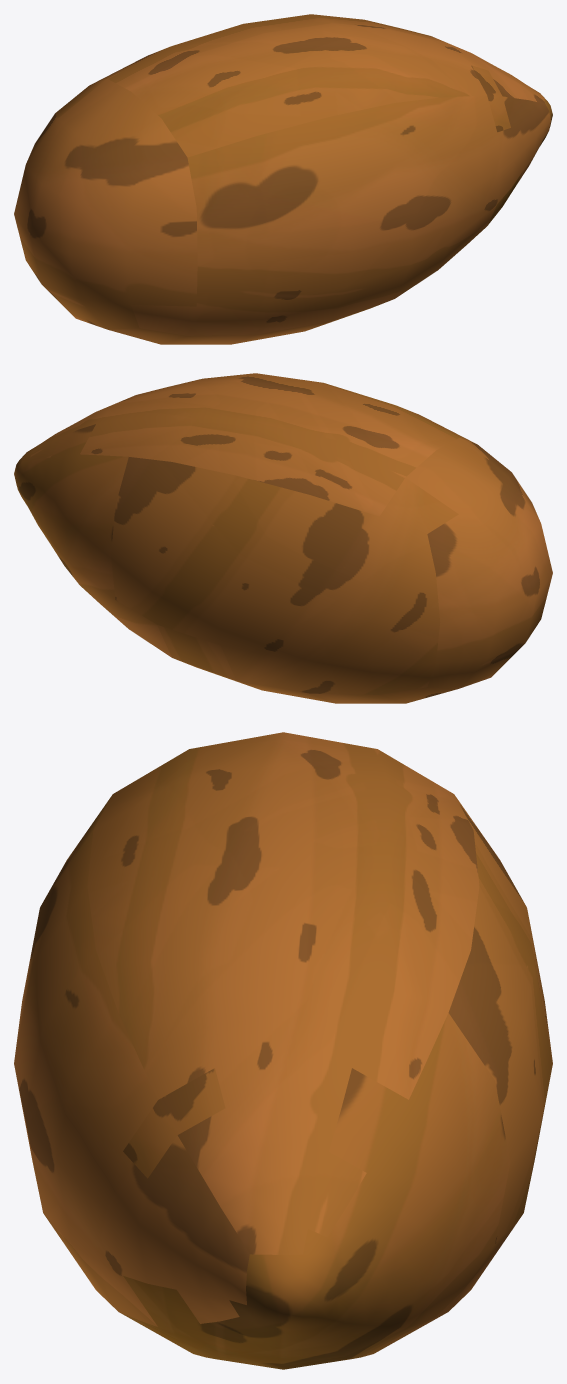
Rendered from model_cacau_01.fbx.
3 views of the same model, one above another, from view 1: azimuth 30°, elevation 25°; view 2: azimuth 150°, elevation 25°; view 3: azimuth 270°, elevation 25° (orthographic). The views are drawn at different scales.
Parts seen in each view (by area): view 1: Cacau.003; view 2: Cacau.003; view 3: Cacau.003.
Boxes of the visible parts, bbox=[...] form: Cacau.003: bbox=[14, 14, 552, 344]; Cacau.003: bbox=[14, 373, 552, 703]; Cacau.003: bbox=[14, 732, 552, 1369].
Bounding box in the file's own units: 0.7666 × 0.3967 × 0.3967.
Materials: 1 (1 with a texture image).
